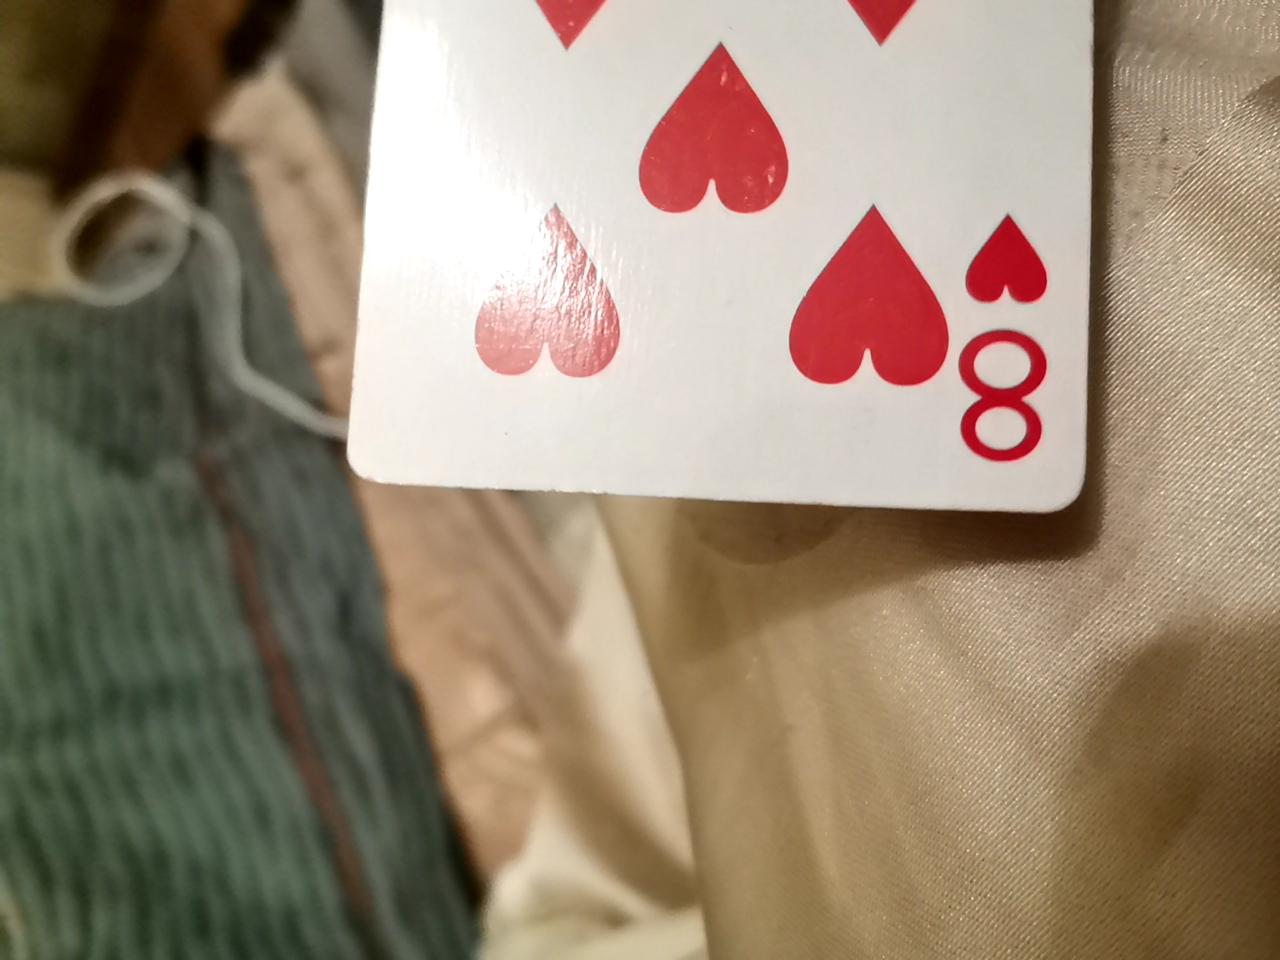hx 8: (348, 1, 1124, 517)
